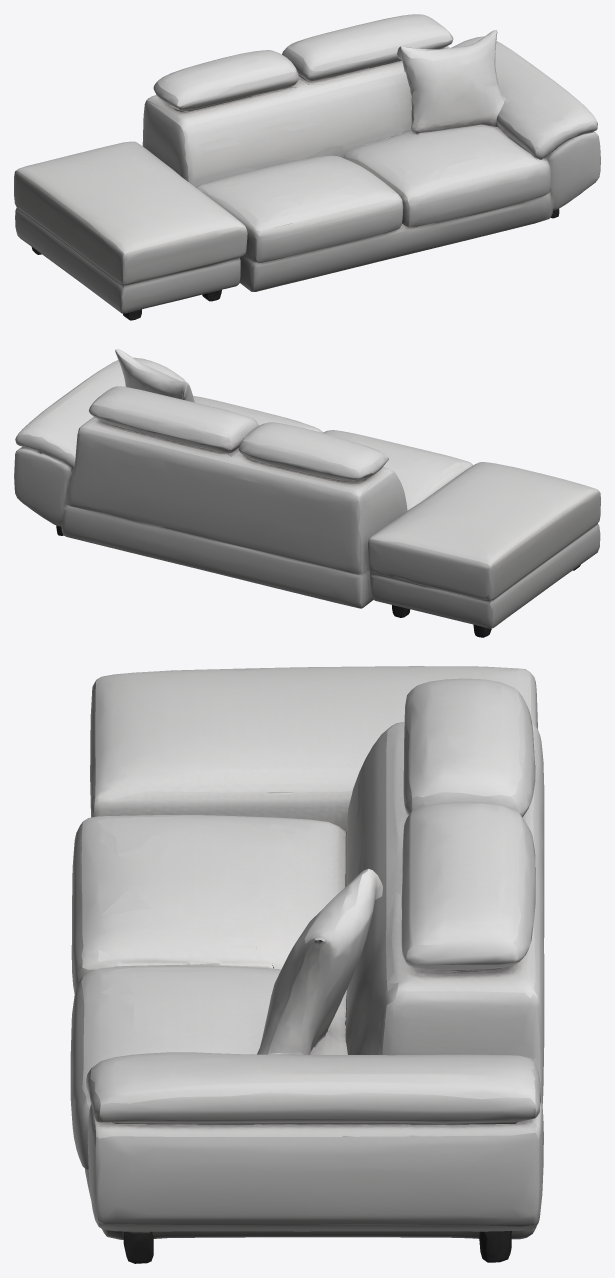
Rendered from sofa.glb.
The picture shows the model from 3 angles, top to bottom: view 1: azimuth 30°, elevation 25°; view 2: azimuth 150°, elevation 25°; view 3: azimuth 270°, elevation 25°; orthographic projection. The views are drawn at different scales.
Visible parts, largest first — view 1: world; view 2: world; view 3: world.
Boxes of the visible parts, <box> form: world: <box>14,14,600,320</box>; world: <box>14,349,600,637</box>; world: <box>70,666,544,1263</box>.
Size of the model in its own units: 0.9996 by 0.309 by 0.4275.
Materials: 1 (1 with a texture image).
